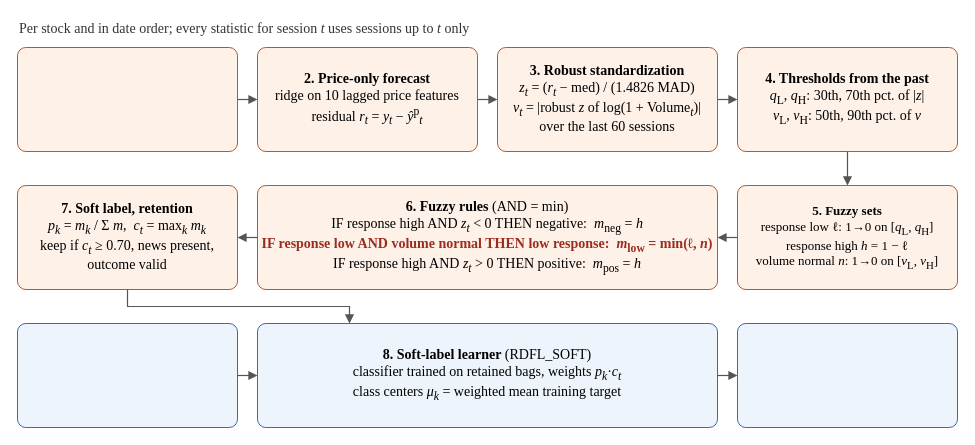
This 975x445 diagram has some shape labels left out. The centre of each missing label's shape, as x and y in pixels:
1. Target y t = log(Close t / Open t ): the point at 127,99
9. Forecast ŷ = Σ k p̂ k μ k: the point at 847,375
News text stock-day text bag character TF-IDF, refitted per fold: the point at 127,375
